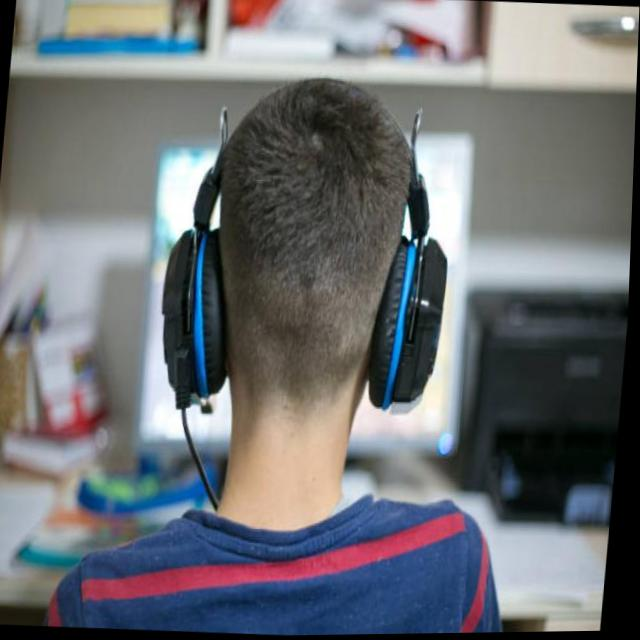no helmet: (207, 70, 412, 502)
